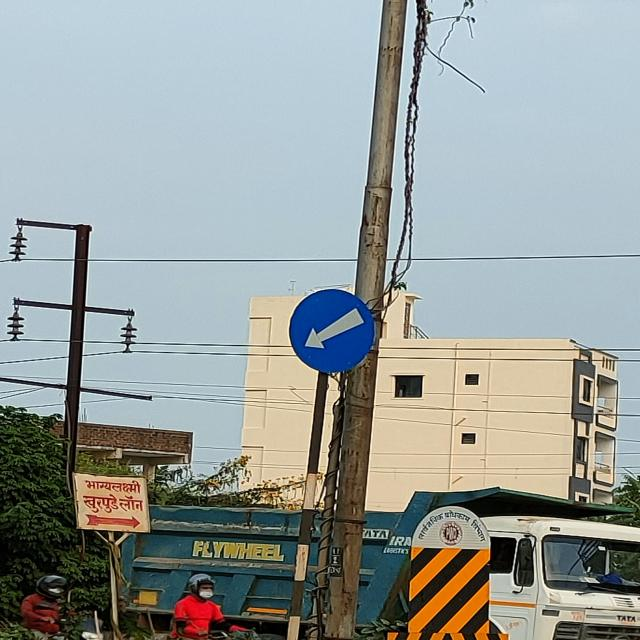compulsory_cycle_track: (284, 286, 387, 381)
